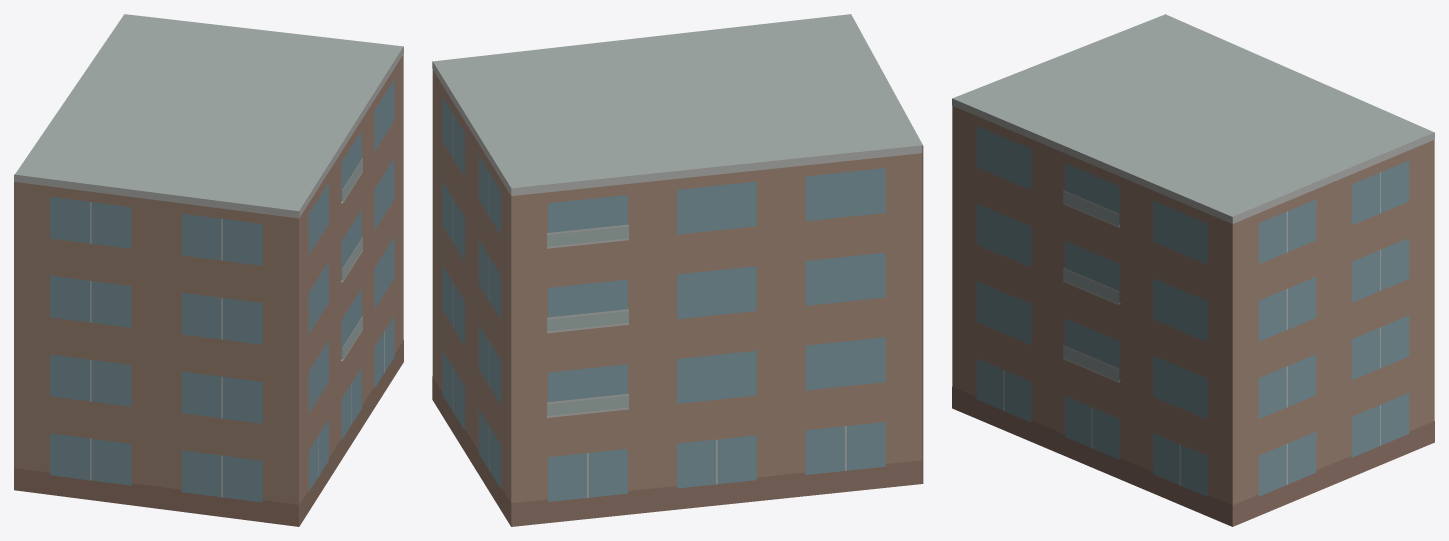
The model's file is survey-upis-32816149.glb.
3 renders of one model, left to right at view 1: azimuth 30°, elevation 25°; view 2: azimuth 150°, elevation 25°; view 3: azimuth 270°, elevation 25°, orthographic. The views are drawn at different scales.
Parts seen in each view (by area): view 1: survey-upis-32816149.tmp; view 2: survey-upis-32816149.tmp; view 3: survey-upis-32816149.tmp.
Part boxes in pixels (x1,y1,x2,y2): survey-upis-32816149.tmp: (14,14,403,526); survey-upis-32816149.tmp: (432,14,923,526); survey-upis-32816149.tmp: (952,14,1434,526).
Bounding box in the file's own units: 14.89 × 10.6 × 14.97.
